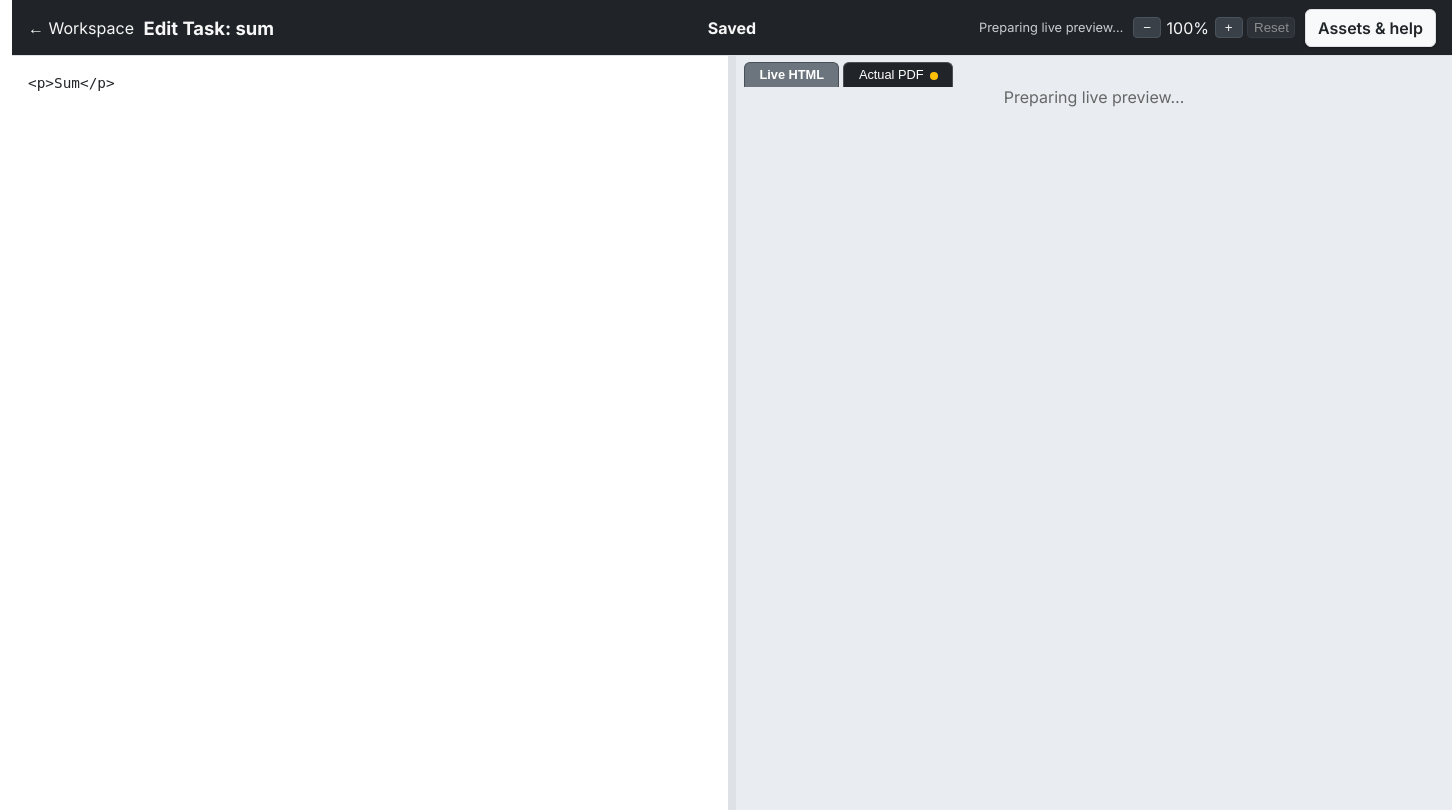
Test: full-screen editor exposes a draggable pane divider and persistent preview zoom controls
This screenshot has width=1452, height=810.
Expected: the element named "Resize source and preview panes" is shown, [728,56,736,809]
Expected: the text "100%" is shown, [1166,18,1210,38]
Click the button named "Zoom in": click(1229, 28) [1215,17,1243,38]
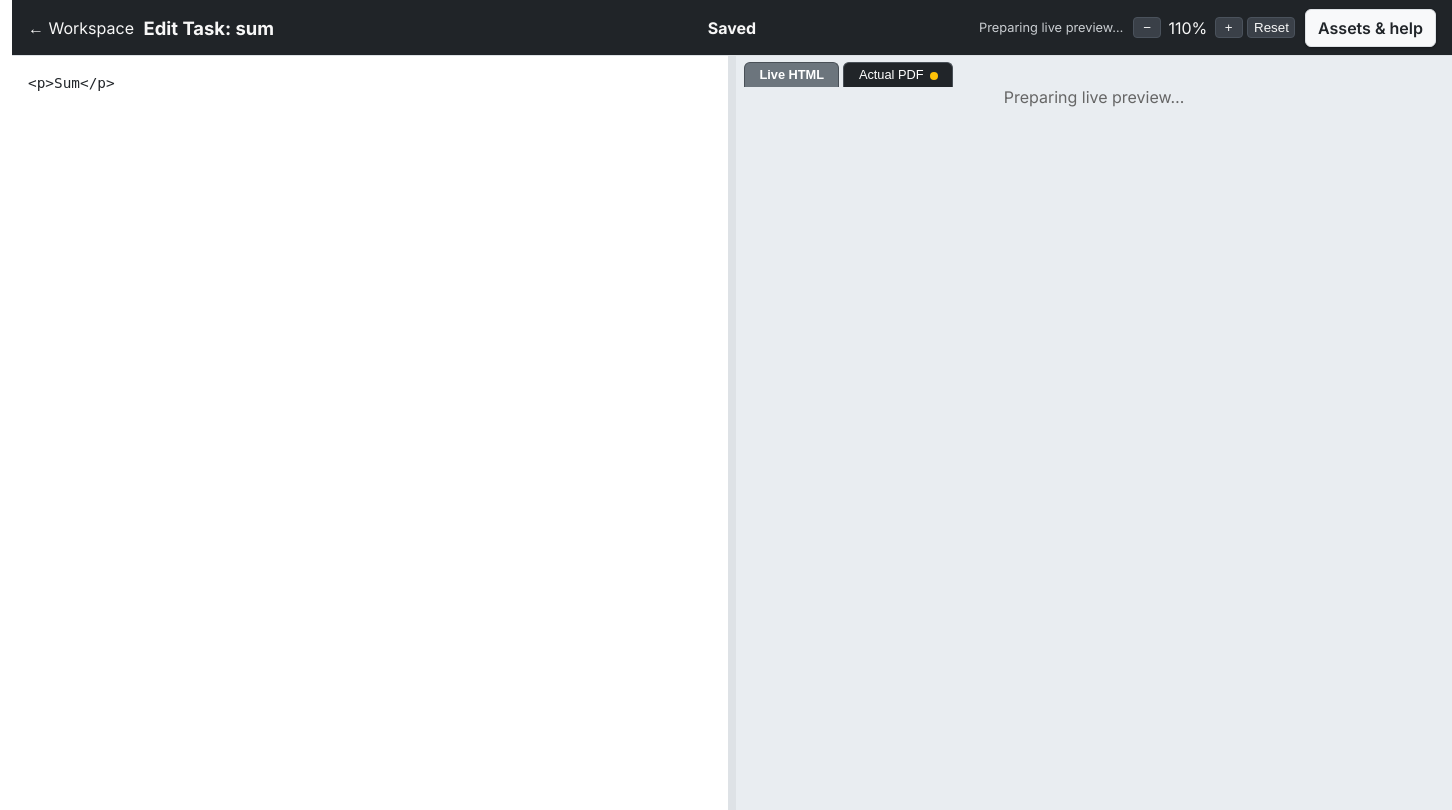
Expected: the button named "Zoom out" is enabled, [1133,17,1161,38]
Result: the text "110%" is shown at [1166,18,1210,38]
Click the button with aria-label "Reset preview zoom": click(1271, 28) [1247,17,1295,38]
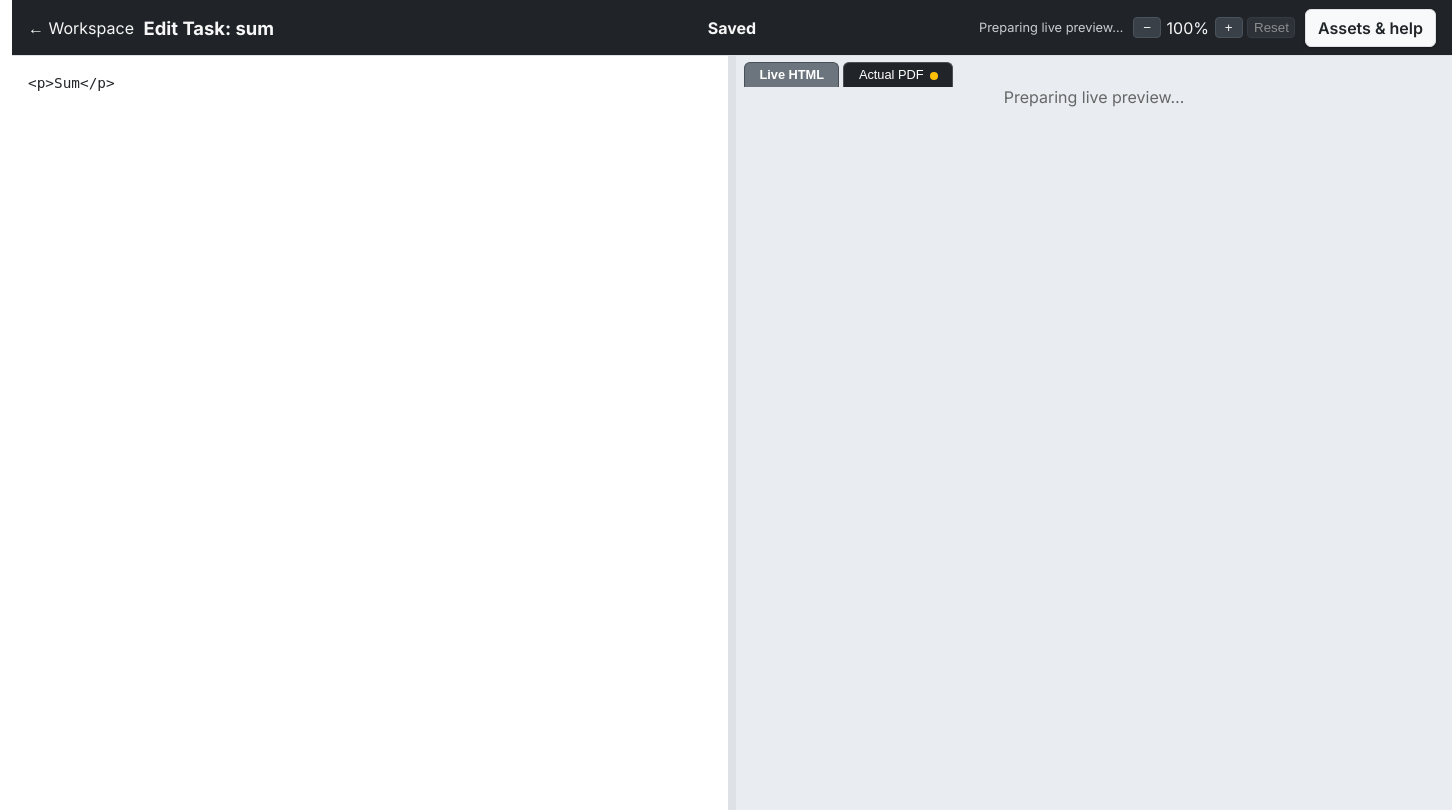
Result: the text "100%" is shown at [1166,18,1210,38]
